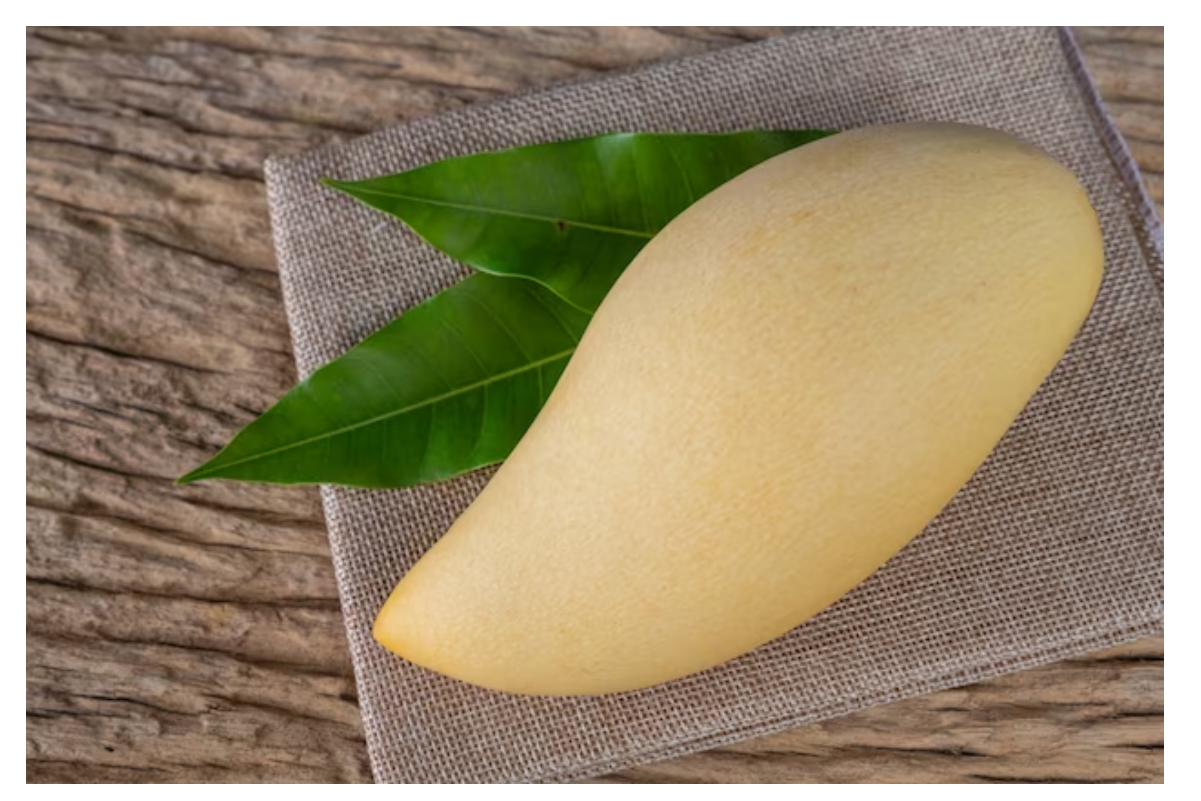mango: (370, 119, 1104, 696)
